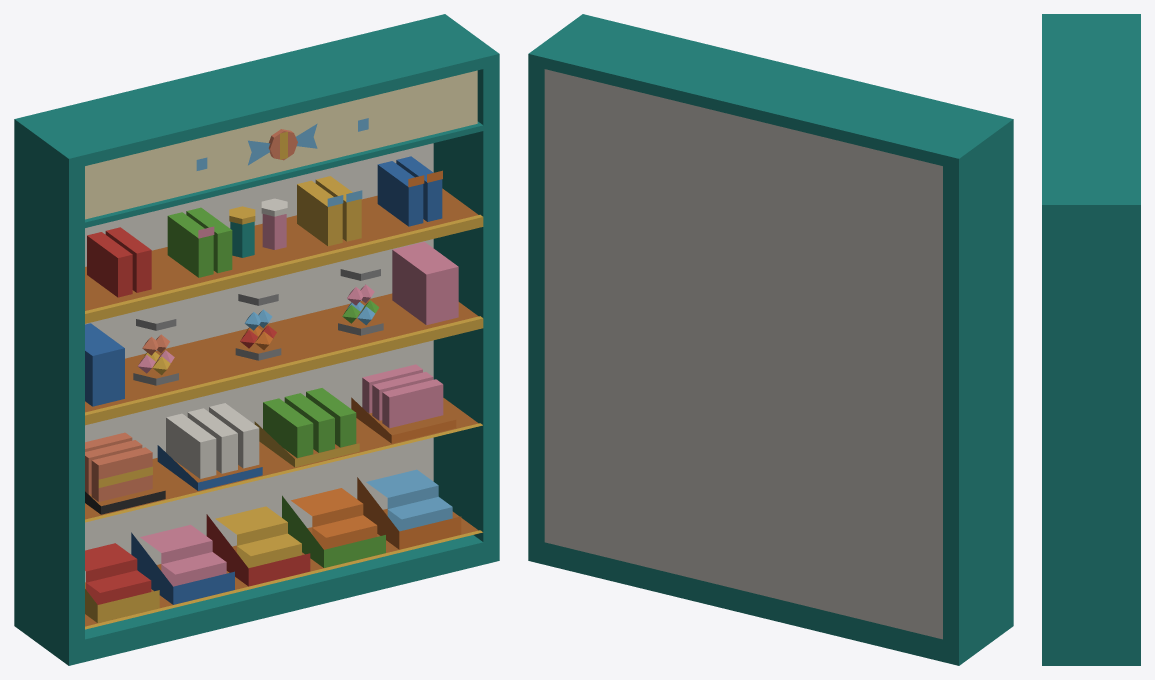
File: kasa_arkasi_raf.glb
The picture shows the model from 3 angles, left to right: view 1: azimuth 30°, elevation 25°; view 2: azimuth 150°, elevation 25°; view 3: azimuth 270°, elevation 25°; orthographic projection. The views are drawn at different scales.
Parts seen in each view (by area): view 1: kasa_arkasi_raf; view 2: kasa_arkasi_raf; view 3: kasa_arkasi_raf.
Part boxes in pixels (x1,y1,x2,y2): kasa_arkasi_raf: (14, 14, 499, 665); kasa_arkasi_raf: (528, 14, 1013, 665); kasa_arkasi_raf: (1042, 14, 1140, 665).
Size of the model in its own units: 1.6 by 1.8 by 0.35.
